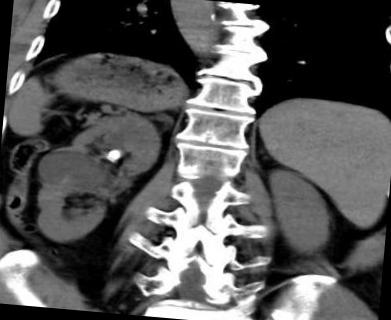Tas_Var: (103, 146, 122, 165)
